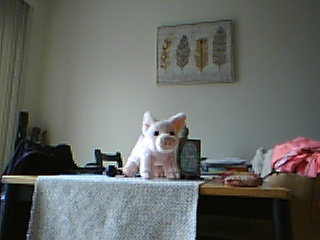piggy: (122, 110, 188, 181)
